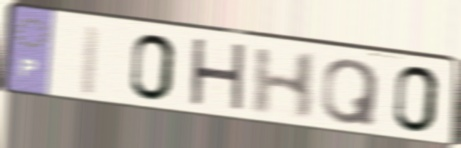0: (391, 64, 441, 137), (128, 32, 178, 105)
H: (249, 45, 321, 122), (186, 35, 249, 117)
I: (75, 22, 105, 99)
Q: (319, 56, 382, 129)
